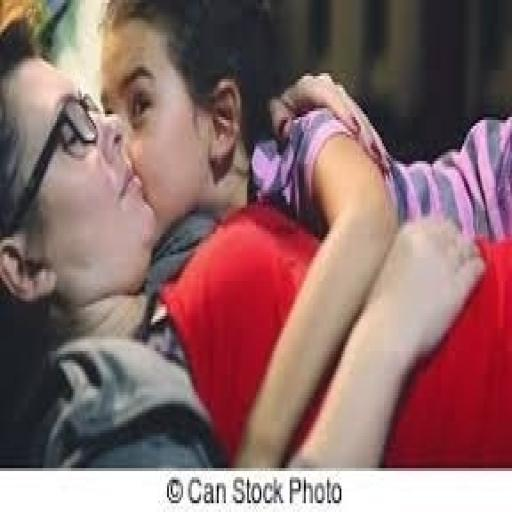hugging: (2, 3, 508, 468)
